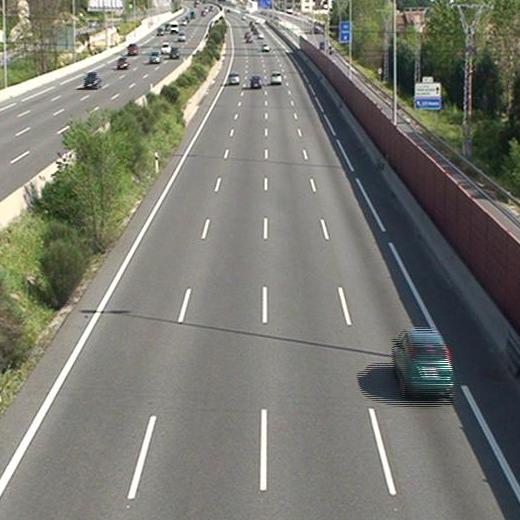car: (392, 330, 453, 398), (269, 72, 283, 85), (250, 77, 262, 89), (228, 74, 239, 85)
